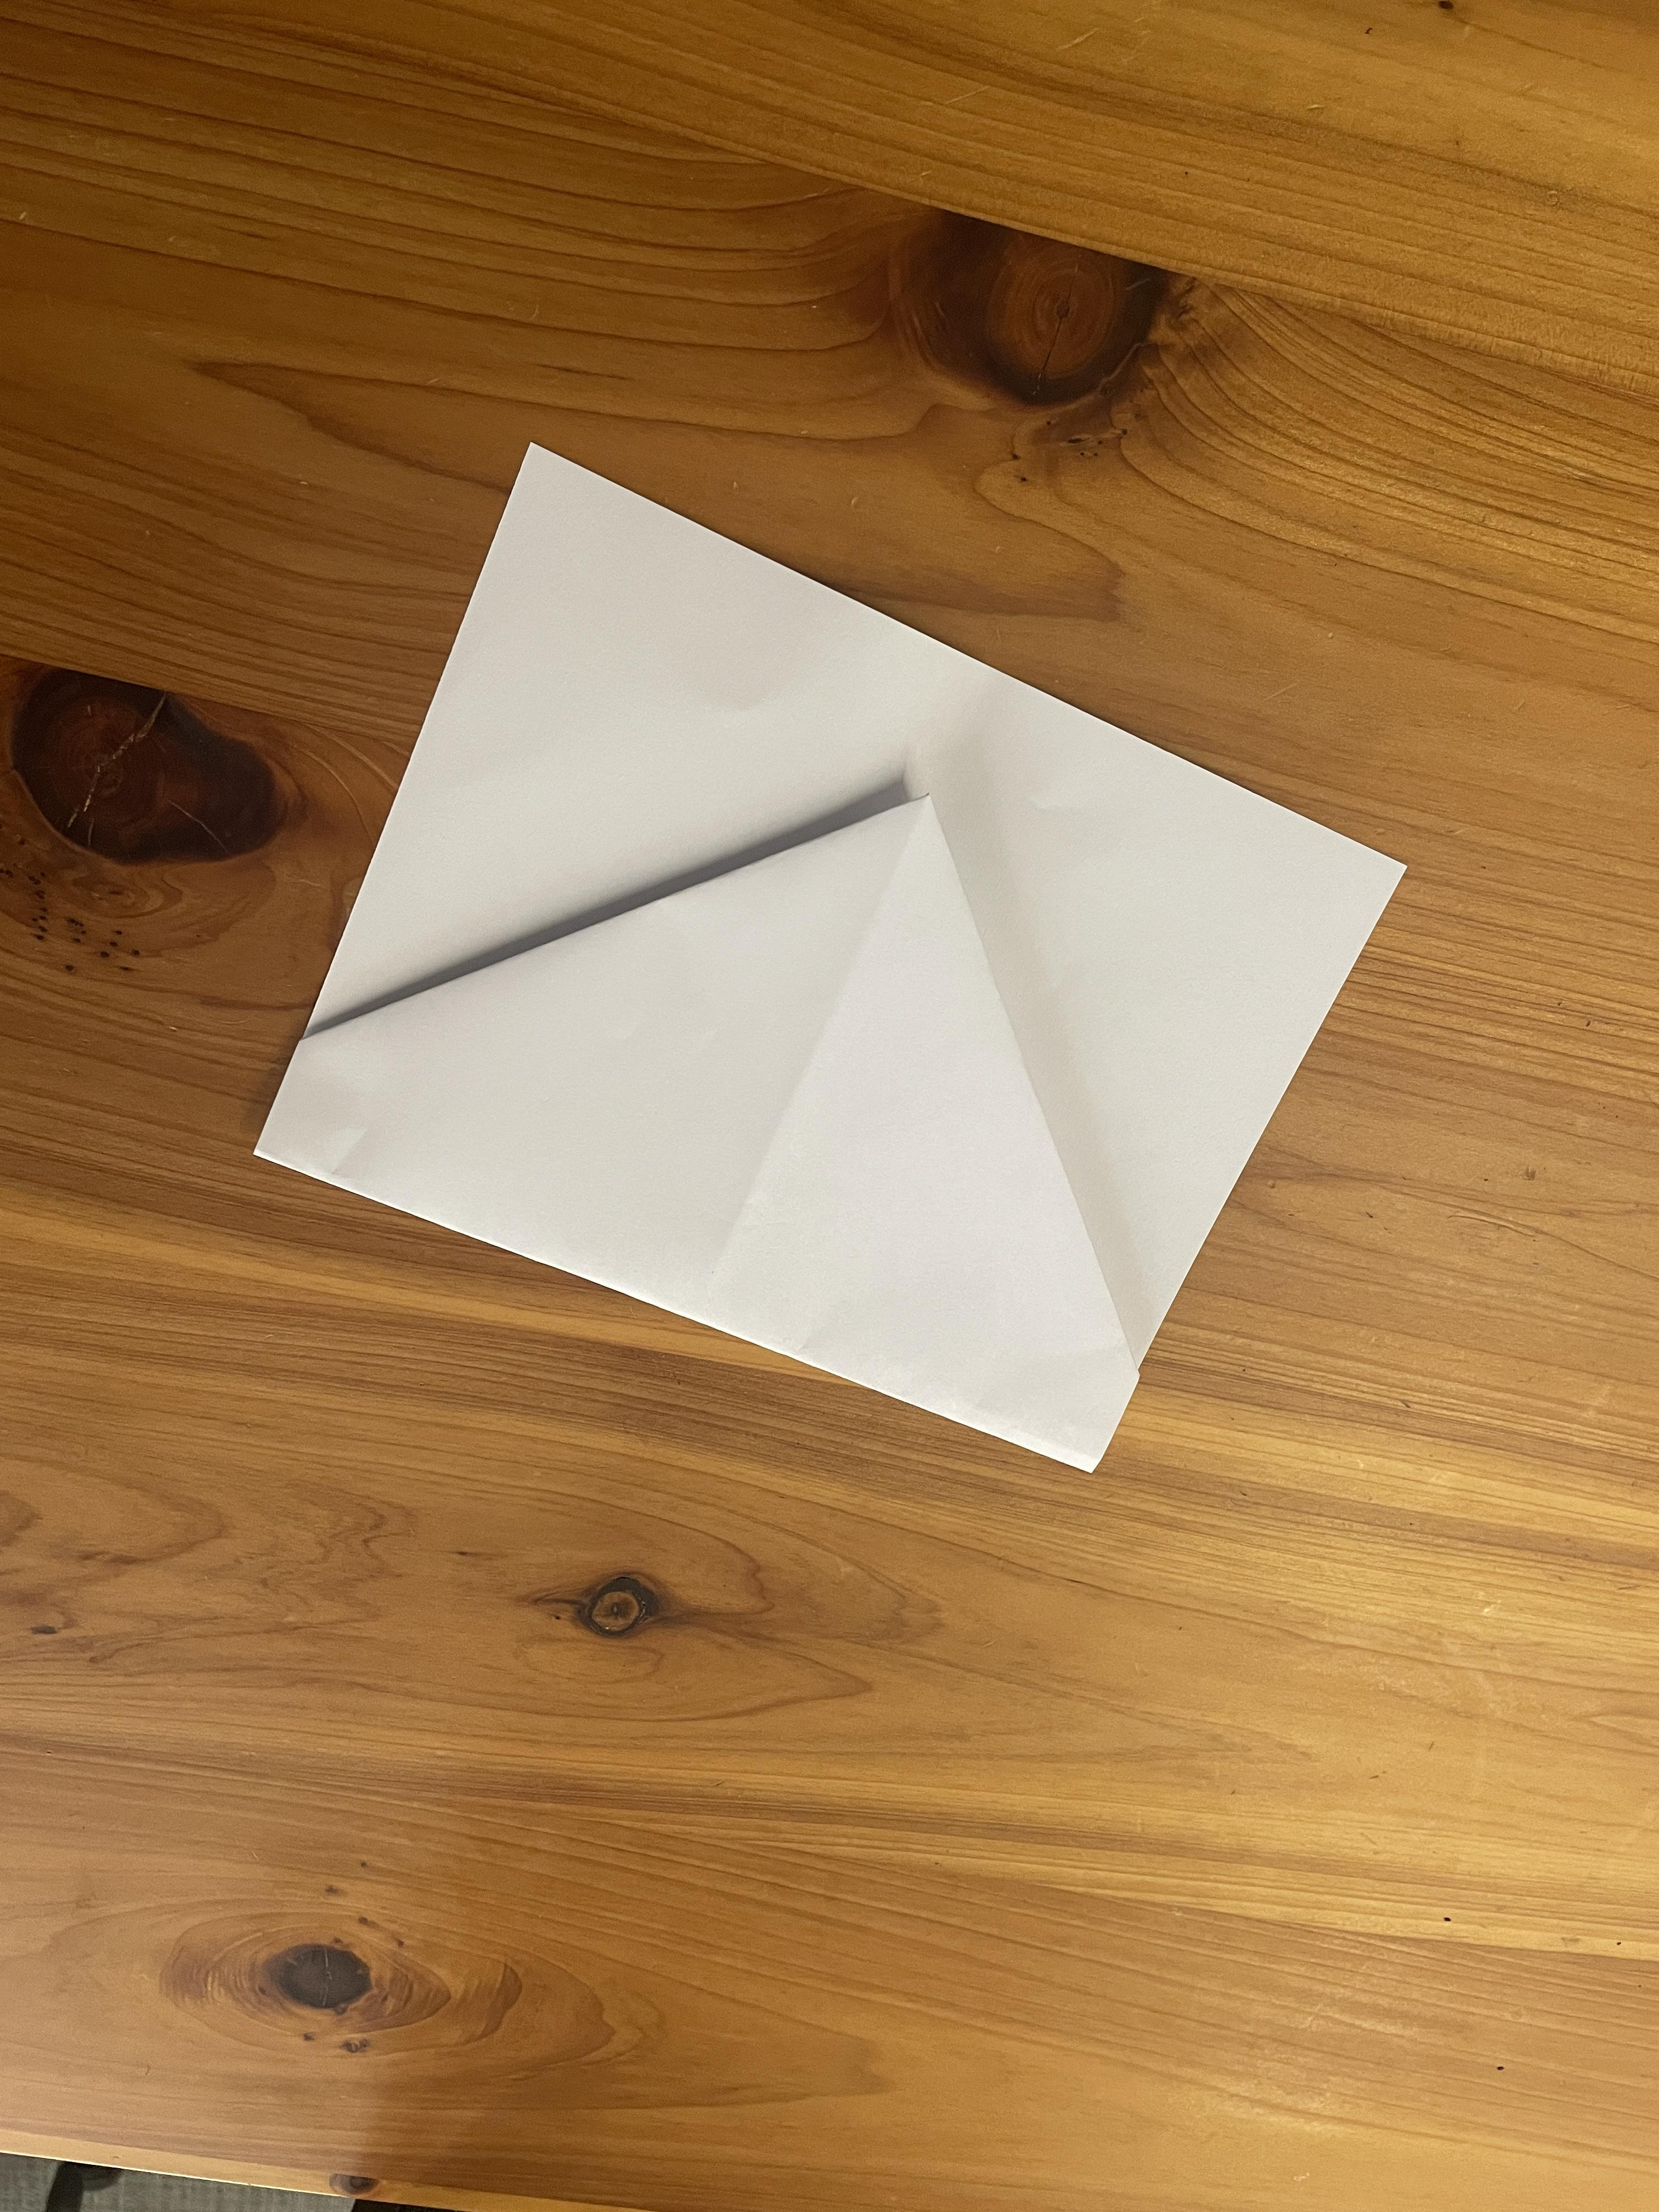shape_1: (230, 395, 1466, 1529)
